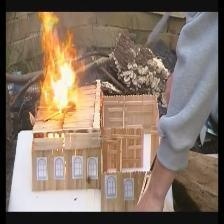fire: (34, 11, 84, 118)
